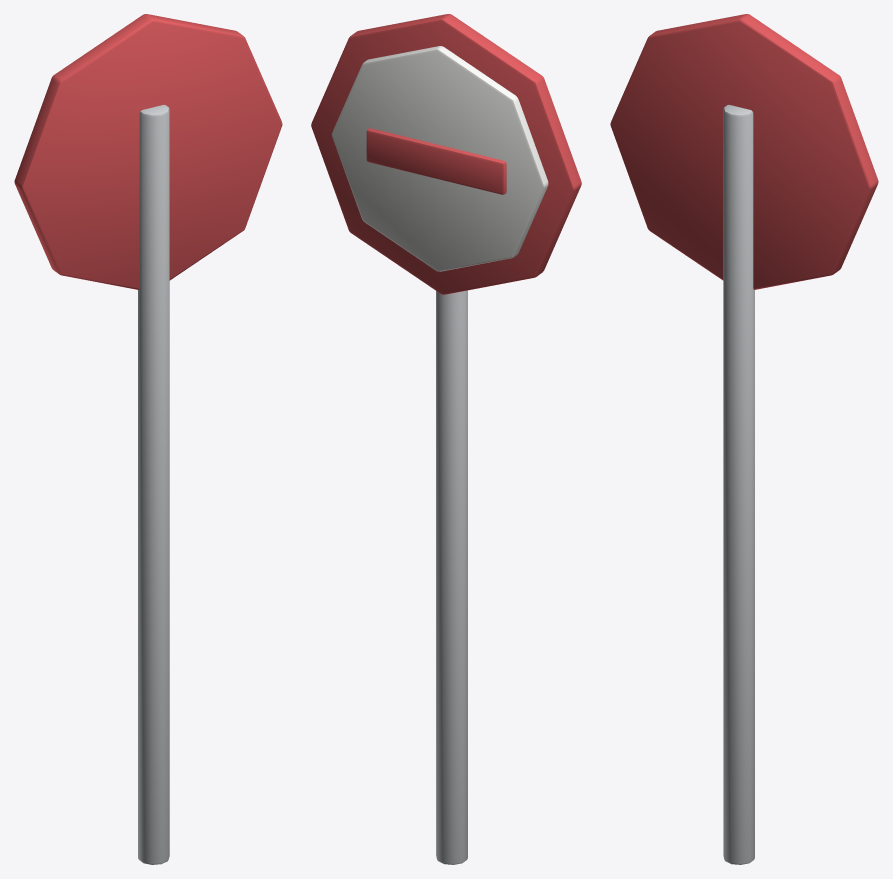
The model's file is th6_schild_stop.glb.
The picture shows the model from 3 angles, left to right: view 1: azimuth 30°, elevation 25°; view 2: azimuth 150°, elevation 25°; view 3: azimuth 330°, elevation 25°; orthographic projection.
Visible parts, largest first — view 1: Cylinder.001, Cylinder; view 2: Cylinder.002, Cylinder.001, Cylinder, Cube; view 3: Cylinder.001, Cylinder.
Part boxes in pixels (bbox=[...]): Cylinder.001: bbox=[14, 14, 282, 289]; Cylinder: bbox=[138, 105, 169, 864]; Cylinder.002: bbox=[331, 46, 548, 271]; Cylinder.001: bbox=[311, 14, 581, 294]; Cylinder: bbox=[436, 290, 467, 864]; Cube: bbox=[366, 128, 506, 194]; Cylinder.001: bbox=[610, 14, 878, 289]; Cylinder: bbox=[723, 105, 754, 864].
Size of the model in its own units: 0.8369 by 2.57 by 0.14.
